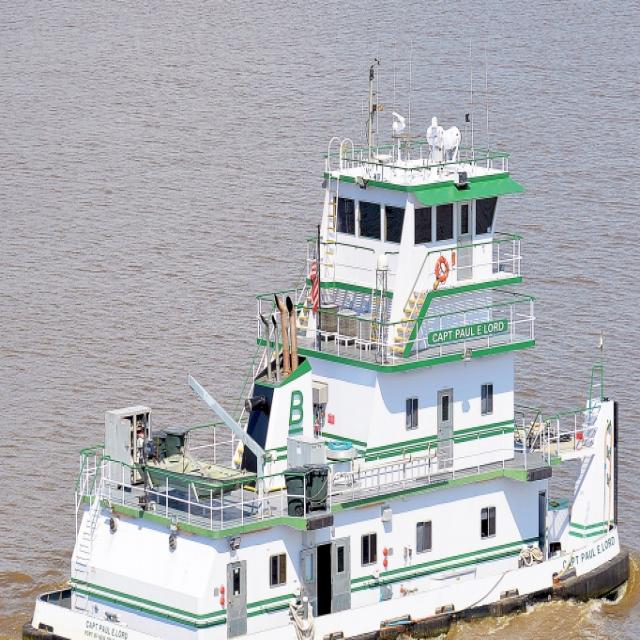tugboat: (16, 37, 640, 640)
